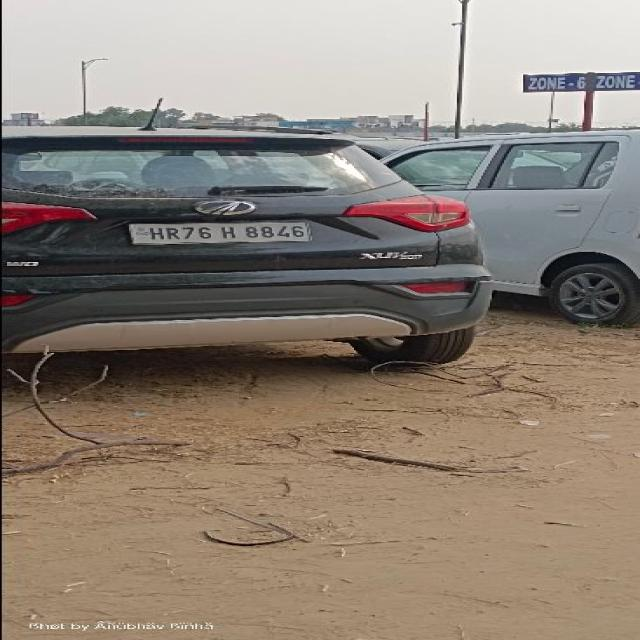license_plate: (126, 219, 312, 245)
